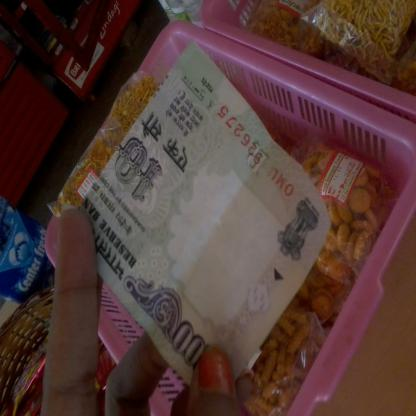Old100Front: (77, 38, 332, 386)
